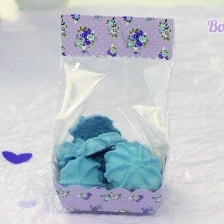snack: (42, 5, 182, 221)
